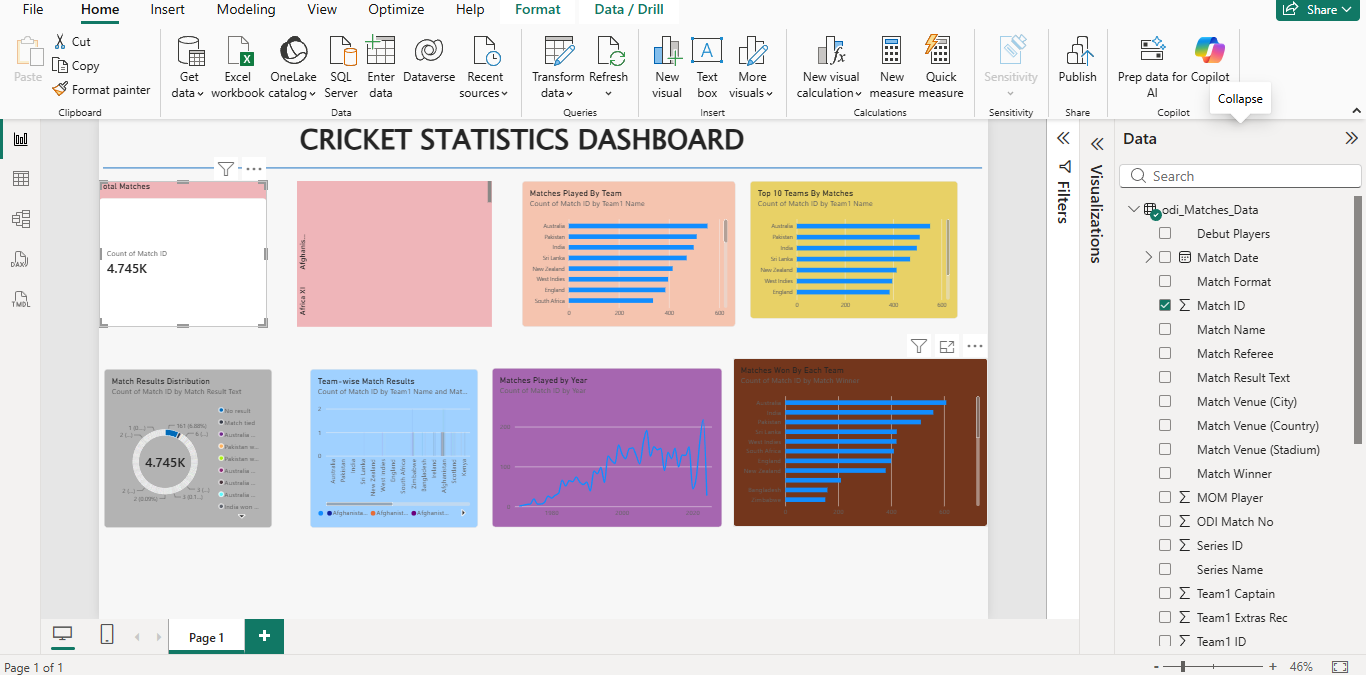

The dashboard page shown, as its layout file describes it:
{"tool":"powerbi","page":{"name":"Page 1","canvas":[1920,1080],"ordinal":0},"visuals":[{"type":"textbox","box":[9.1,0,1810.3,105.1],"z":0},{"type":"shape","box":[9.1,29.7,1899.4,150.9],"z":1},{"type":"cardVisual","title":"Total Matches","fields":{"Data":["CountNonNull(odi_Matches_Data.Match ID)"]},"box":[0,133.5,362.4,315.4],"z":2},{"type":"cardVisual","fields":{"Rows":["odi_Matches_Data.Team1 Name"]},"box":[428.3,133.5,420.5,315.4],"z":3},{"type":"clusteredBarChart","title":"Matches Played By Team","fields":{"Category":["odi_Matches_Data.Team1 Name"],"Y":["CountNonNull(odi_Matches_Data.Match ID)"]},"box":[914.6,133.5,461.1,315],"z":4},{"type":"clusteredBarChart","title":"Top 10 Teams By Matches","fields":{"Category":["odi_Matches_Data.Team1 Name"],"Y":["CountNonNull(odi_Matches_Data.Match ID)"]},"box":[1406,133.5,448.5,297.3],"z":5},{"type":"donutChart","title":"Match Results Distribution","fields":{"Category":["odi_Matches_Data.Match Result Text"],"Y":["CountNonNull(odi_Matches_Data.Match ID)"]},"box":[10.1,539.2,362.8,342.7],"z":6},{"type":"clusteredColumnChart","title":"Team-wise Match Results","fields":{"Category":["odi_Matches_Data.Team1 Name"],"Series":["odi_Matches_Data.Match Result Text"],"Y":["CountNonNull(odi_Matches_Data.Match ID)"]},"box":[456.1,539.2,362.8,342.7],"z":7},{"type":"clusteredBarChart","title":"Matches Won By Each Team","fields":{"Category":["odi_Matches_Data.Match Winner"],"Y":["CountNonNull(odi_Matches_Data.Match ID)"]},"box":[1369.7,516.7,550.3,363.8],"z":9},{"type":"lineChart","title":"Matches Played by Year ","fields":{"Category":["odi_Matches_Data.Match Date.Variation.Date Hierarchy.Year"],"Y":["CountNonNull(odi_Matches_Data.Match ID)"]},"box":[849.7,538.1,496.9,344],"z":10}]}

Visuals, with their boxes on the page's 1920x1080 design canvas (x1, y1, x2, y2). These are canvas units, not pixel positions in the 1366x675 screenshot, which may show the page scaled, cropped or inside an application window:
textbox: x1=9, y1=0, x2=1819, y2=105
shape: x1=9, y1=30, x2=1908, y2=181
"Total Matches" cardVisual: x1=0, y1=134, x2=362, y2=449
cardVisual - odi_Matches_Data.Team1 Name: x1=428, y1=134, x2=849, y2=449
"Matches Played By Team" clusteredBarChart: x1=915, y1=134, x2=1376, y2=448
"Top 10 Teams By Matches" clusteredBarChart: x1=1406, y1=134, x2=1854, y2=431
"Match Results Distribution" donutChart: x1=10, y1=539, x2=373, y2=882
"Team-wise Match Results" clusteredColumnChart: x1=456, y1=539, x2=819, y2=882
"Matches Won By Each Team" clusteredBarChart: x1=1370, y1=517, x2=1920, y2=880
"Matches Played by Year " lineChart: x1=850, y1=538, x2=1347, y2=882
